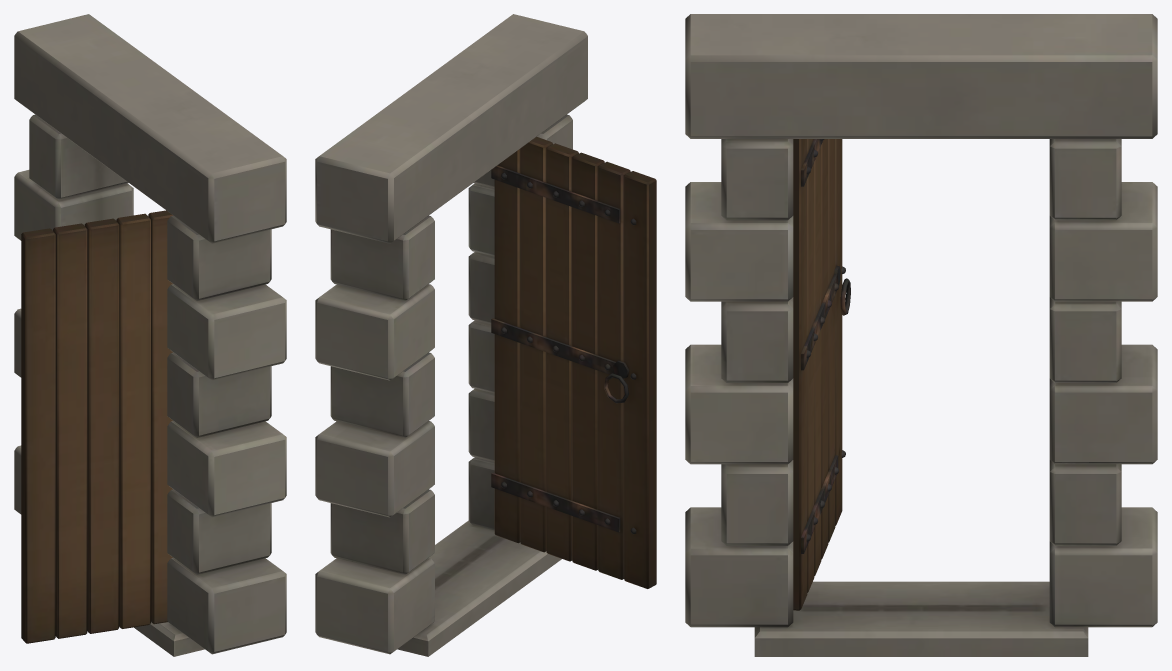
The model's file is door.open.glb.
3 renders of one model, left to right at view 1: azimuth 30°, elevation 25°; view 2: azimuth 150°, elevation 25°; view 3: azimuth 270°, elevation 25°, orthographic. The views are drawn at different scales.
Parts seen in each view (by area): view 1: door.open; view 2: door.open; view 3: door.open.
Part boxes in pixels (x1,y1,x2,y2): door.open: [14, 14, 286, 656]; door.open: [315, 14, 656, 656]; door.open: [685, 14, 1157, 656].
Size of the model in its own units: 1.13 by 2.56 by 1.84.
1 material, 1 textured.
